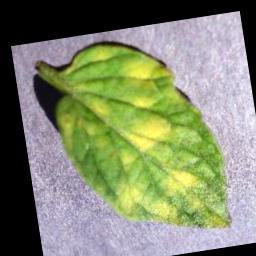Leaf_Mold: (112, 160, 229, 243), (115, 47, 191, 116), (112, 107, 189, 172), (55, 108, 88, 158), (86, 41, 119, 66), (87, 97, 112, 124)
